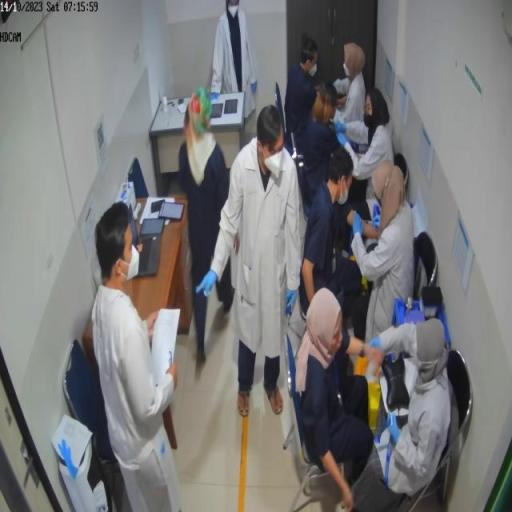person: (197, 106, 304, 421), (92, 201, 184, 509), (294, 289, 395, 511), (368, 319, 453, 500), (179, 89, 232, 366), (352, 159, 417, 344), (301, 147, 363, 322), (340, 87, 396, 233), (211, 1, 259, 127), (303, 84, 345, 217), (285, 35, 322, 153), (335, 43, 368, 128)
